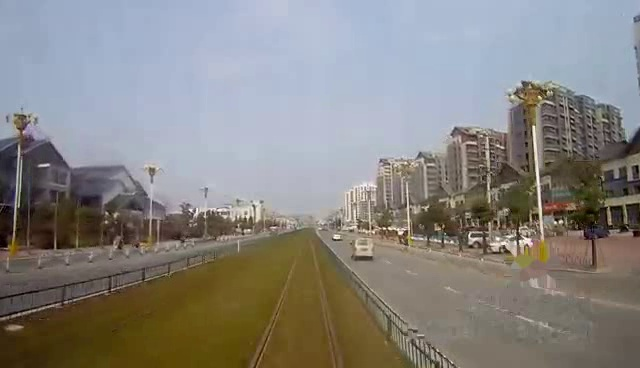car: (350, 234, 377, 260)
